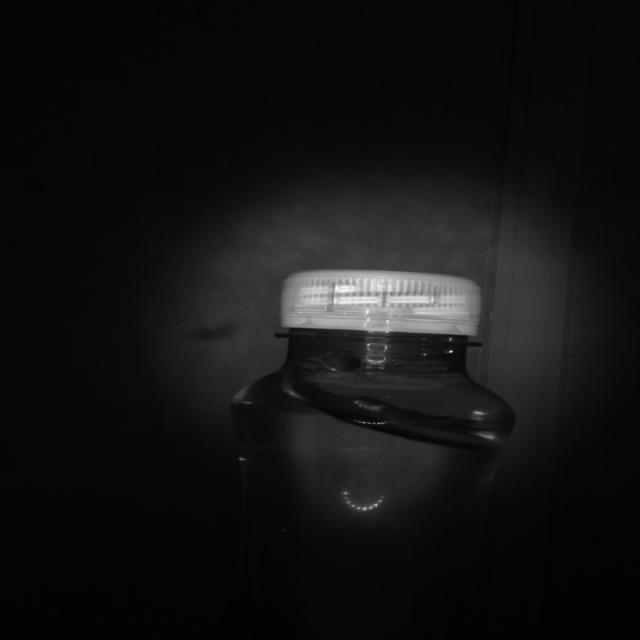Good: (276, 264, 488, 343)
